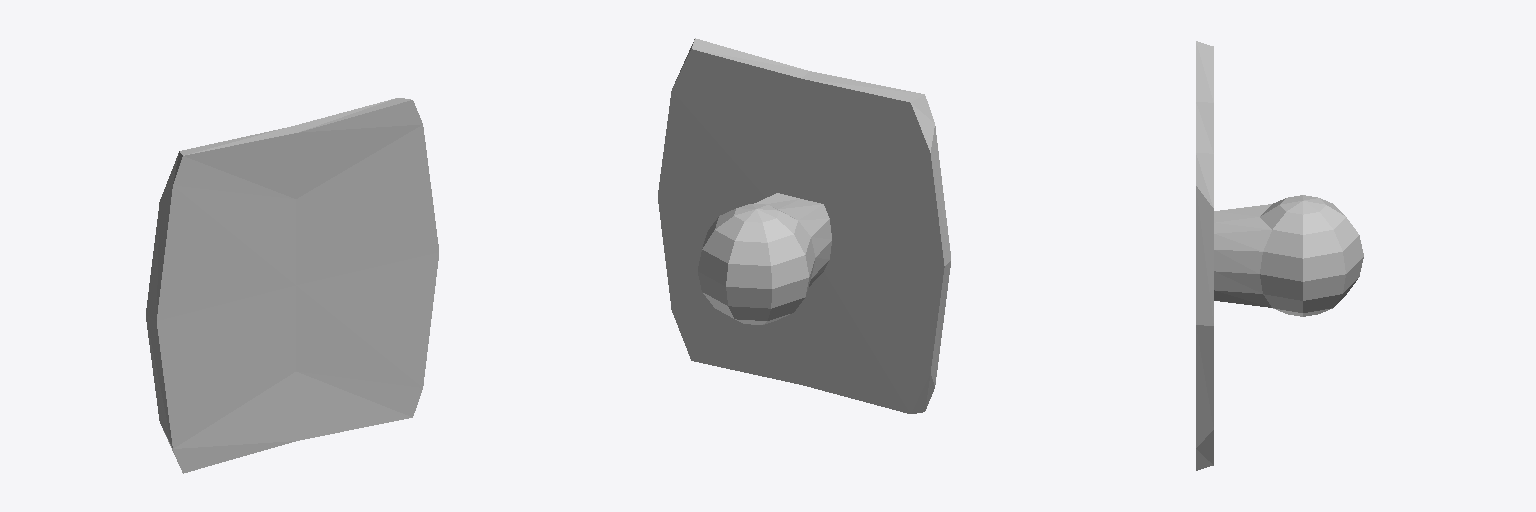
The model's file is shield2.obj.
The picture shows the model from 3 angles: view 1: azimuth 30°, elevation 25°; view 2: azimuth 150°, elevation 25°; view 3: azimuth 270°, elevation 25°; orthographic projection.
Visible parts, largest first — view 1: Sphere.001; view 2: Sphere.001; view 3: Sphere.001.
Boxes of the visible parts, x1,y1,x2,y2 form: Sphere.001: [146, 98, 438, 473]; Sphere.001: [658, 38, 950, 413]; Sphere.001: [1196, 41, 1363, 470].
Size of the model in its own units: 5.42 by 5.74 by 2.75.